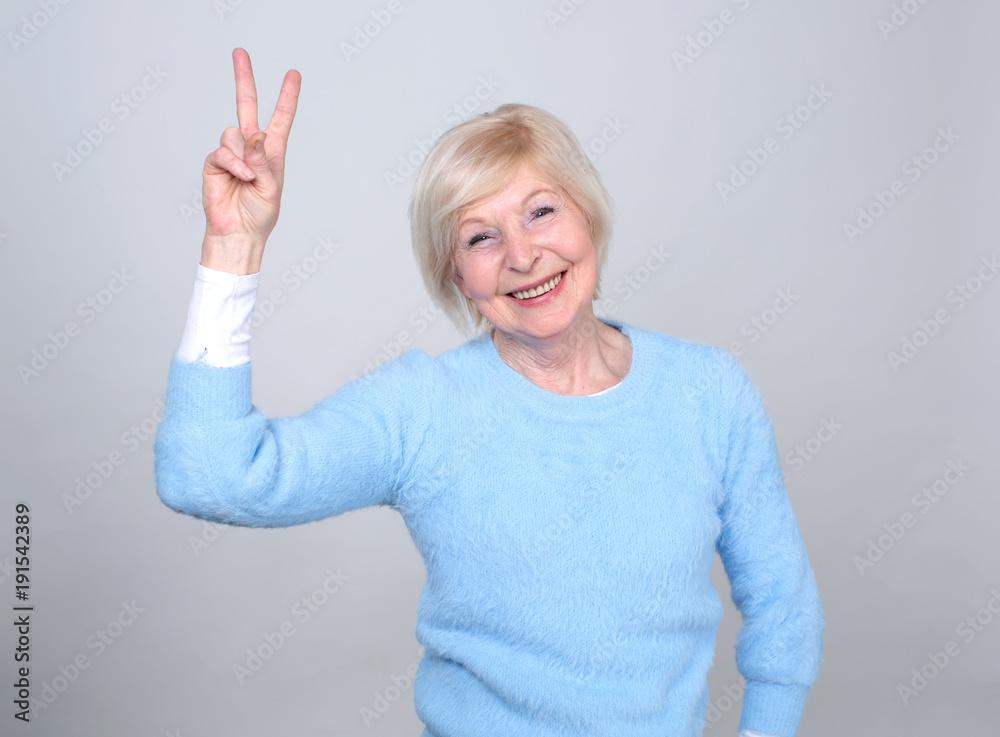peace_sign: (193, 39, 308, 260)
